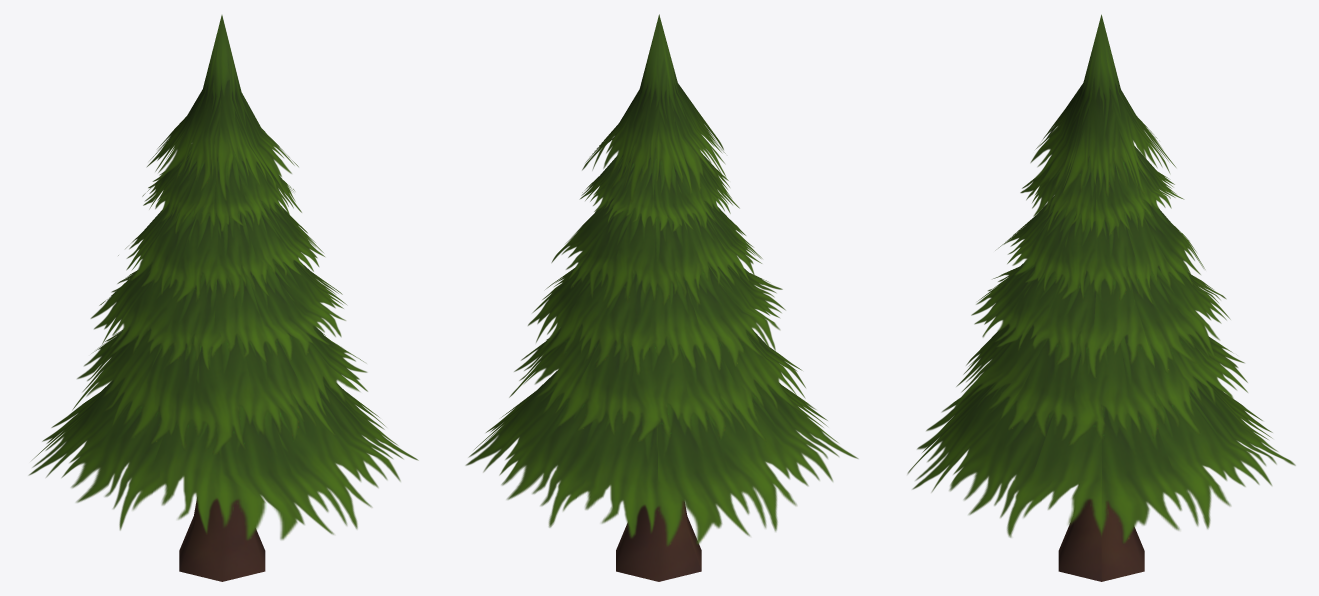
The model's file is fir_tree.glb.
3 views of the same model, side by side, from view 1: azimuth 30°, elevation 25°; view 2: azimuth 150°, elevation 25°; view 3: azimuth 270°, elevation 25° (orthographic).
Visible parts, largest first — view 1: Fir_v1_1; view 2: Fir_v1_1; view 3: Fir_v1_1.
Boxes of the visible parts, left/top/right/bottom form: Fir_v1_1: left=28, top=15, right=418, bottom=581; Fir_v1_1: left=465, top=14, right=858, bottom=581; Fir_v1_1: left=907, top=14, right=1295, bottom=581.
Size of the model in its own units: 3.55 by 5.21 by 3.55.
1 material, 1 textured.
